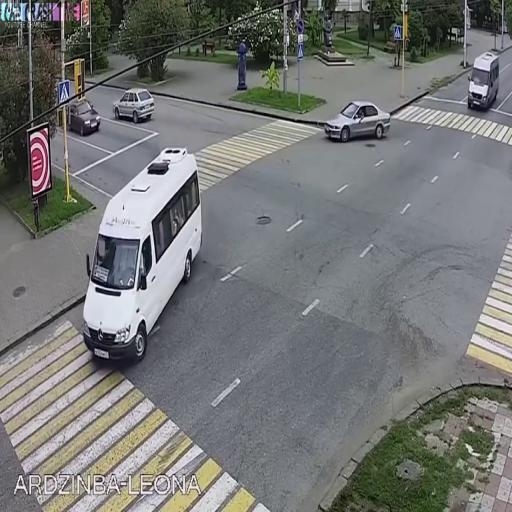小汽车: (88, 150, 202, 364), (324, 102, 392, 139), (468, 54, 499, 112), (68, 96, 101, 138), (116, 88, 156, 120)
